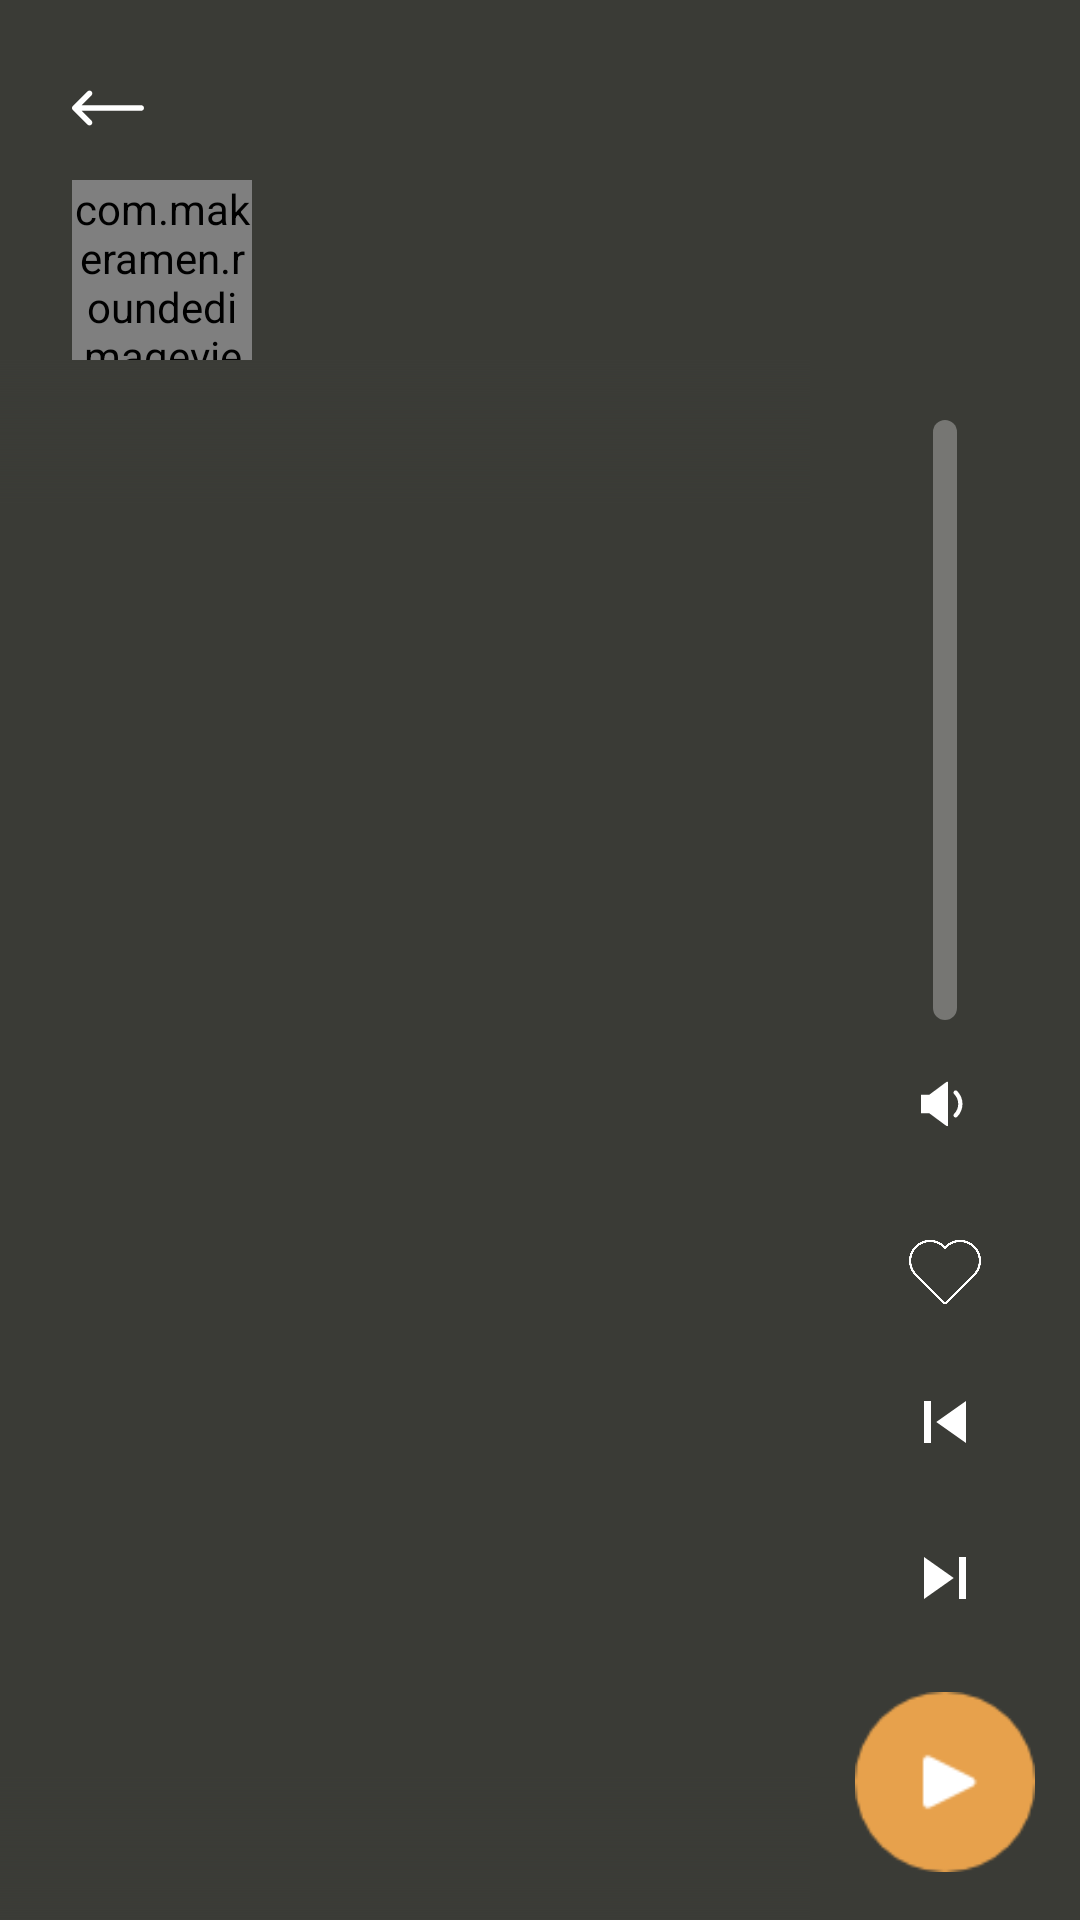

Screen size 1080px x 1920px. Icon name, then its center in pixels as point (x, y):
back: point (108, 108)
skip next: point (945, 1578)
skip previous: point (945, 1422)
volume down: point (942, 1103)
